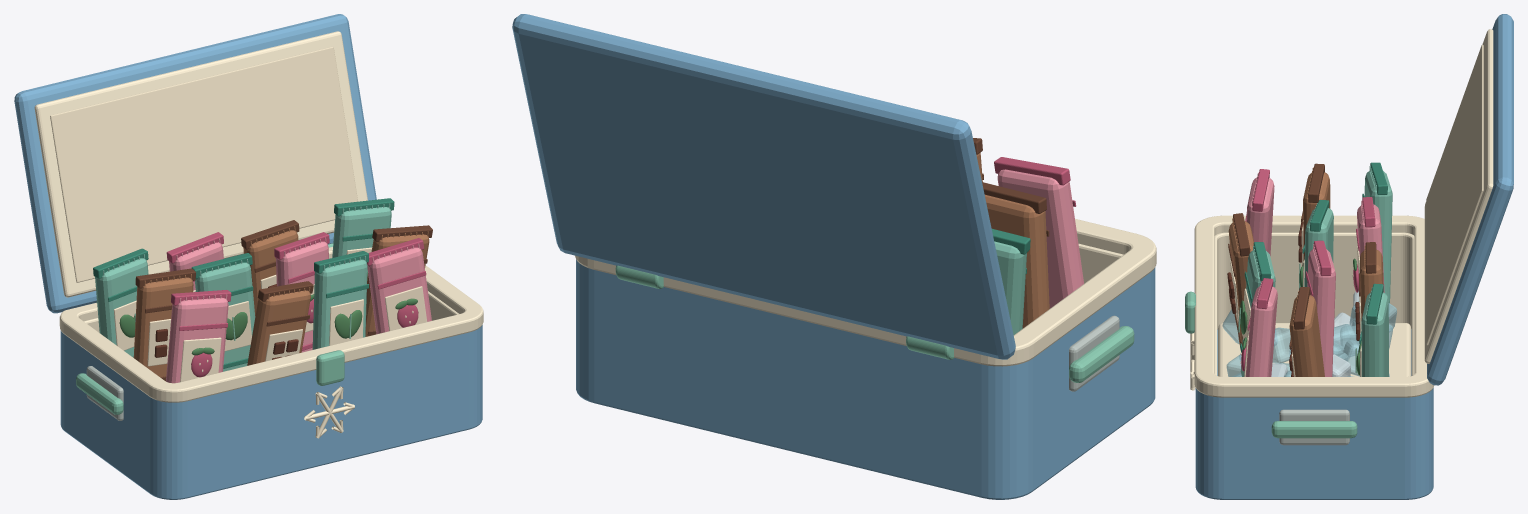
Rendered from icebox_stocked.glb.
3 renders of one model, left to right at view 1: azimuth 30°, elevation 25°; view 2: azimuth 150°, elevation 25°; view 3: azimuth 270°, elevation 25°, orthographic. The views are drawn at different scales.
Visible parts, largest first — view 1: Recessed lid center.001, Blue insulated shell.001, Rounded blue lid.001, Thick cream rim.001, Insulating lid liner.001, Sealed plastic pack.003, Sealed plastic pack.005, Sealed plastic pack.006, Sealed plastic pack.004, Sealed plastic pack.007, Sealed plastic pack.011, Sealed plastic pack.008 (+28 smaller); view 2: Rounded blue lid.001, Blue insulated shell.001, Thick cream rim.001, Sealed plastic pack.003, Sealed plastic pack.007, Sealed plastic pack.011, Carrying grip.002, Handle bracket.002, Crimped end.007, Cream inner walls.001, Crimped end.015; view 3: Blue insulated shell.001, Thick cream rim.001, Recessed lid center.001, Cream inner walls.001, Rounded blue lid.001, Insulating lid liner.001, Cream inner floor.001, Sealed plastic pack.006, Sealed plastic pack.009, Sealed plastic pack.010, Sealed plastic pack.014, Carrying grip.003 (+23 smaller).
Part boxes in pixels (box(x1,y1,x2,y2)): Recessed lid center.001: box(50, 46, 357, 282); Blue insulated shell.001: box(60, 325, 482, 499); Rounded blue lid.001: box(14, 14, 376, 313); Thick cream rim.001: box(59, 247, 483, 402); Insulating lid liner.001: box(34, 31, 367, 297); Sealed plastic pack.003: box(166, 297, 228, 383); Sealed plastic pack.005: box(312, 259, 367, 349); Sealed plastic pack.006: box(367, 247, 431, 334); Sealed plastic pack.004: box(247, 290, 310, 365); Sealed plastic pack.007: box(133, 277, 193, 381); Sealed plastic pack.011: box(95, 258, 148, 357); Sealed plastic pack.008: box(195, 262, 255, 371); Rounded blue lid.001: box(512, 14, 1015, 359); Blue insulated shell.001: box(576, 259, 1155, 499); Thick cream rim.001: box(575, 219, 1156, 366); Sealed plastic pack.003: box(997, 169, 1083, 308); Sealed plastic pack.007: box(984, 194, 1049, 328); Sealed plastic pack.011: box(994, 241, 1026, 334); Carrying grip.002: box(1069, 326, 1134, 382); Handle bracket.002: box(1069, 315, 1119, 391); Crimped end.007: box(994, 157, 1070, 185); Cream inner walls.001: box(1078, 243, 1123, 283); Crimped end.015: box(982, 182, 1046, 213); Blue insulated shell.001: box(1195, 388, 1433, 499); Thick cream rim.001: box(1194, 215, 1434, 397); Recessed lid center.001: box(1426, 44, 1483, 345); Cream inner walls.001: box(1214, 232, 1414, 375); Rounded blue lid.001: box(1427, 14, 1513, 385); Insulating lid liner.001: box(1424, 29, 1493, 363); Cream inner floor.001: box(1218, 323, 1411, 376); Sealed plastic pack.006: box(1245, 286, 1277, 376); Sealed plastic pack.009: box(1307, 249, 1335, 376); Sealed plastic pack.010: box(1289, 295, 1324, 376); Sealed plastic pack.014: box(1361, 292, 1388, 376); Carrying grip.003: box(1271, 421, 1357, 438).
Size of the model in its own units: 4.53 by 3.76 by 3.45.
